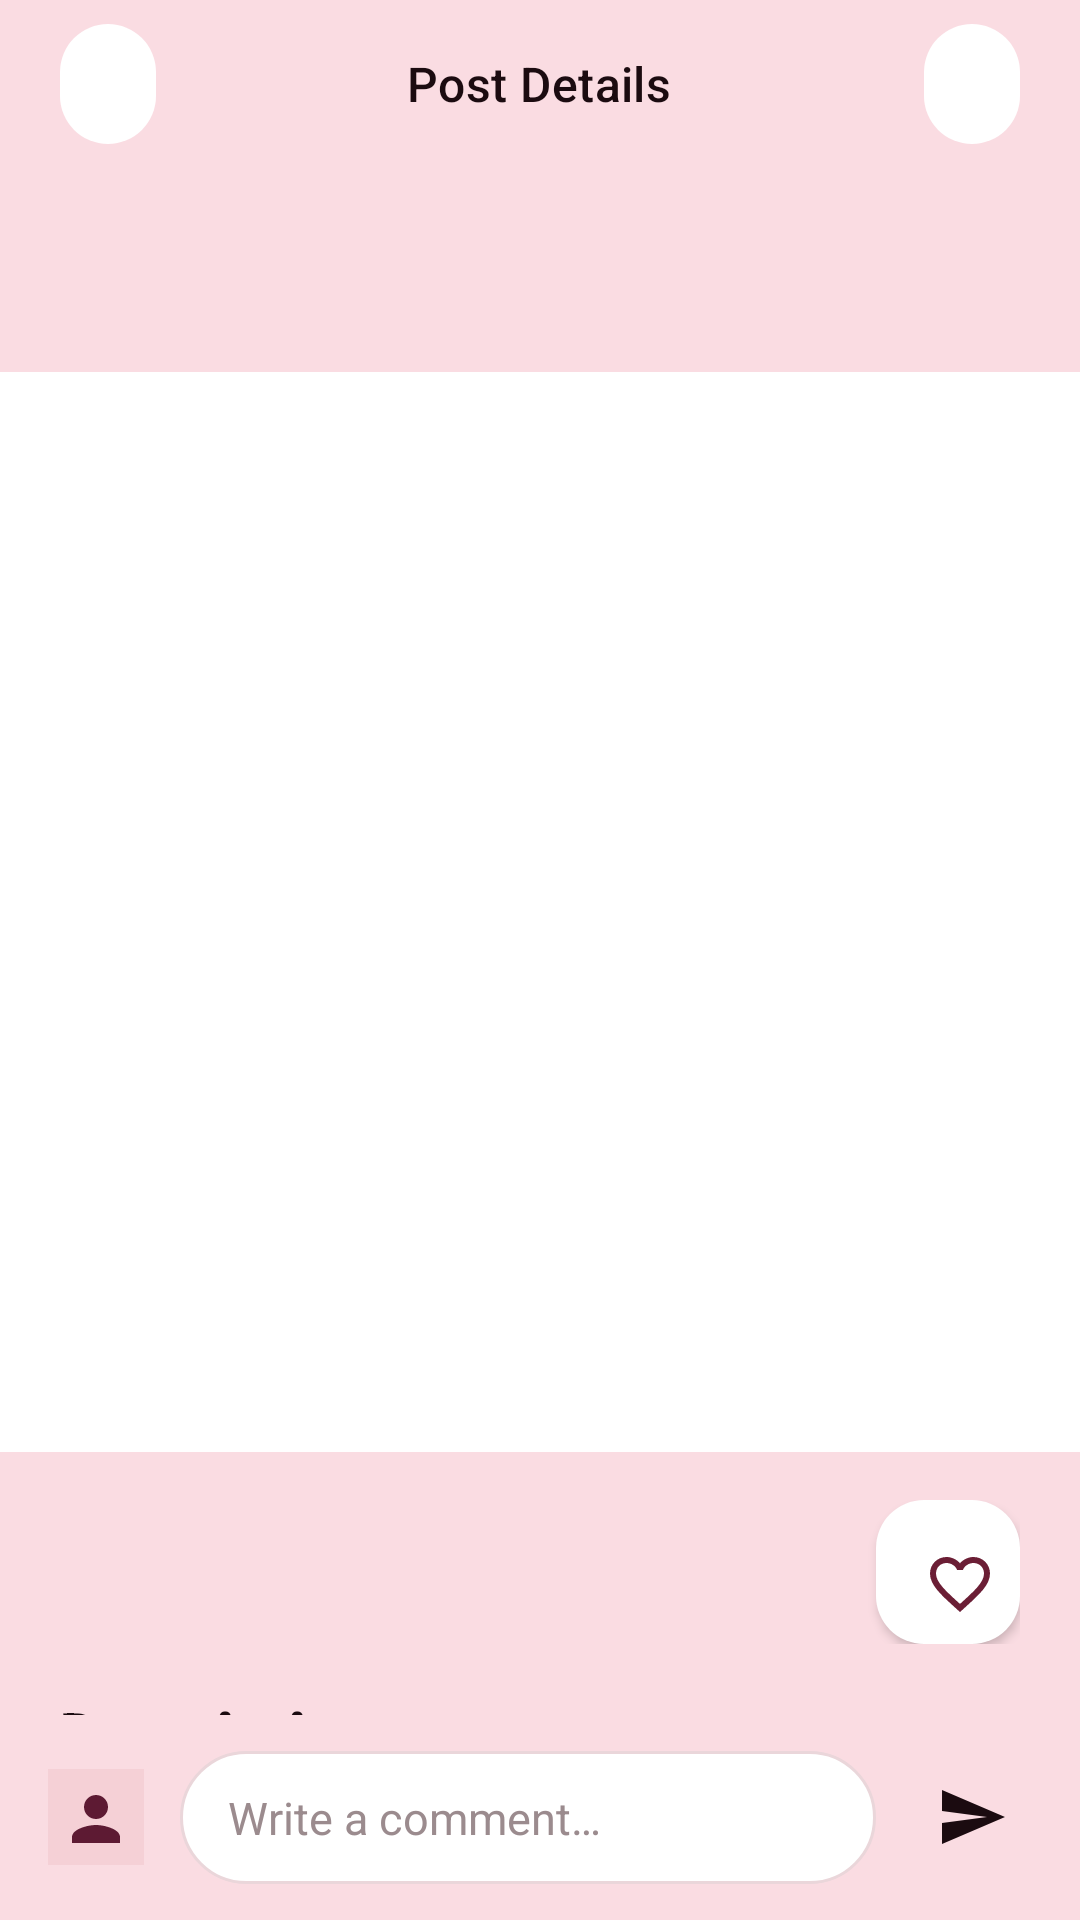

Icons on this 1080 × 1920 Android screen, each with its box as (x1, y1, x2, y2):
Like post: (876, 1500, 1020, 1644)
Send comment: (942, 1790, 1005, 1844)
